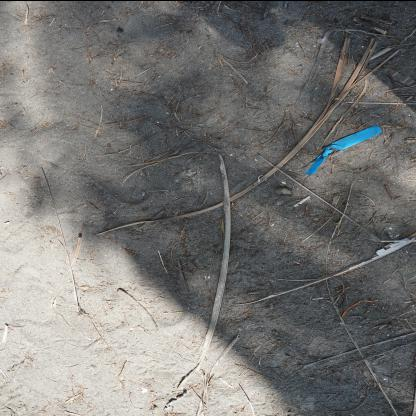plastik: (305, 125, 384, 175)
